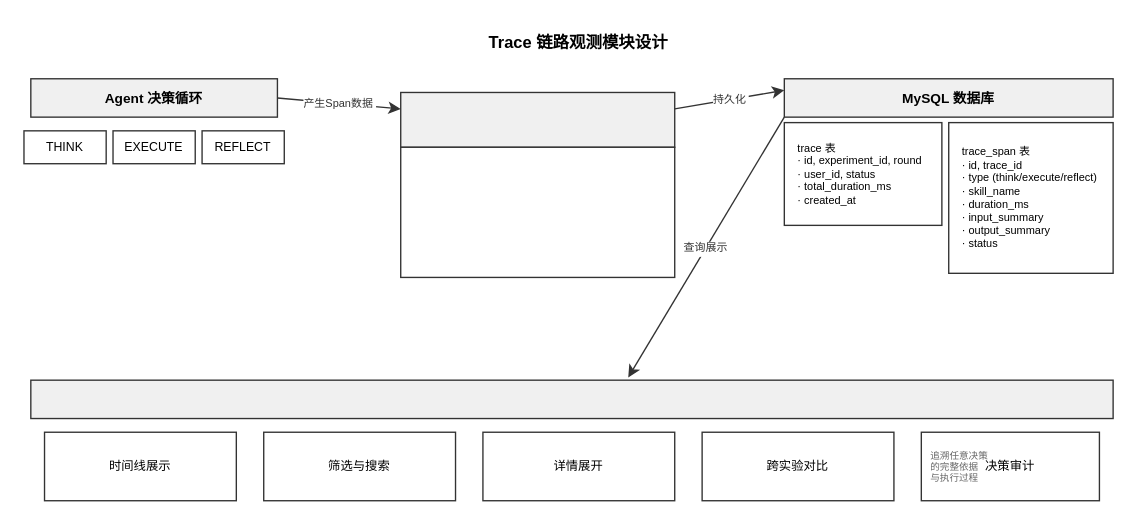
Some shapes in this 1137 by 525 pixel diagram are drawn without their labels. Here are the shapes that lost their labels. From the top down, the centre of each, then its label:
[537,119]: Trajectory Logger （轨迹记录器）
[537,211]: 记录每轮决策的: · Span类型 (think/execute/reflect) · 调用技能名 · 耗时 (ms) · 输入摘要 · 输出摘要 · 执行状态
[571,399]: Web 控制台 Trace视图
